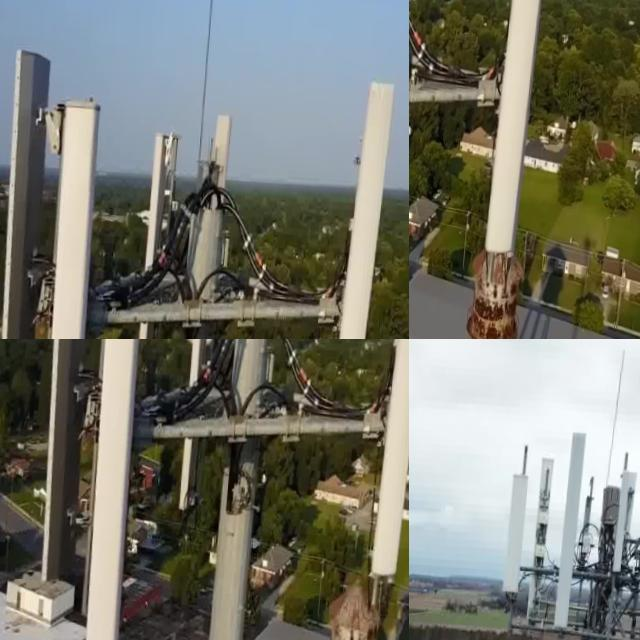GSM Antenna: (0, 38, 55, 339), (341, 64, 399, 339), (50, 339, 108, 596), (93, 339, 142, 640), (45, 85, 100, 339), (492, 0, 546, 250), (197, 104, 237, 339), (138, 122, 180, 339), (556, 418, 592, 632), (379, 339, 409, 586), (182, 339, 224, 515), (504, 461, 537, 597), (533, 447, 560, 581), (249, 339, 282, 419), (614, 466, 633, 575)
